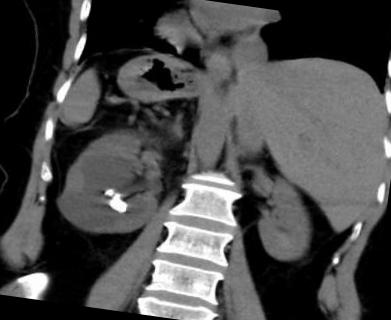Tas_Var: (107, 191, 131, 214), (101, 186, 114, 196)
